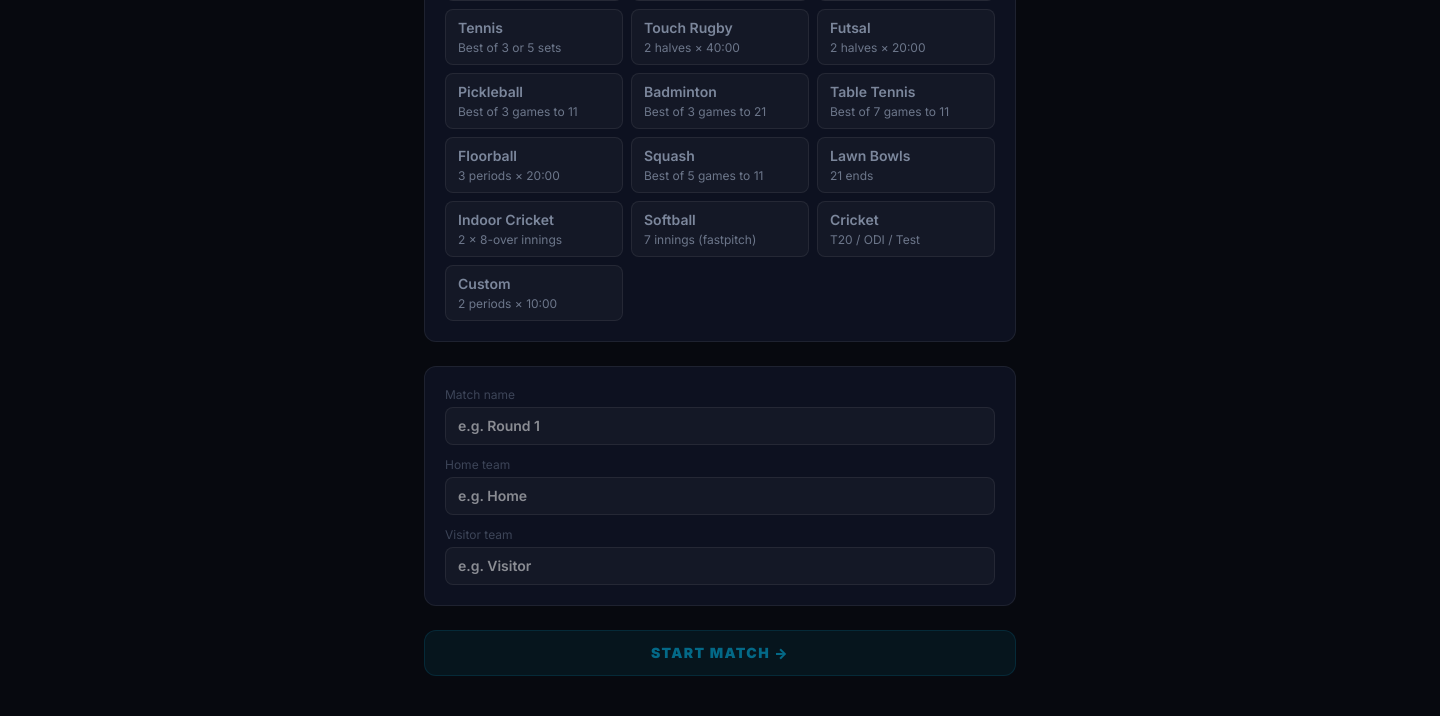
SetupPage › shows a network-error message when the request throws
(page scrolled)
In the field with test id "setup-match-name": x=720, y=426 [445,407,995,445], type "Round 1"
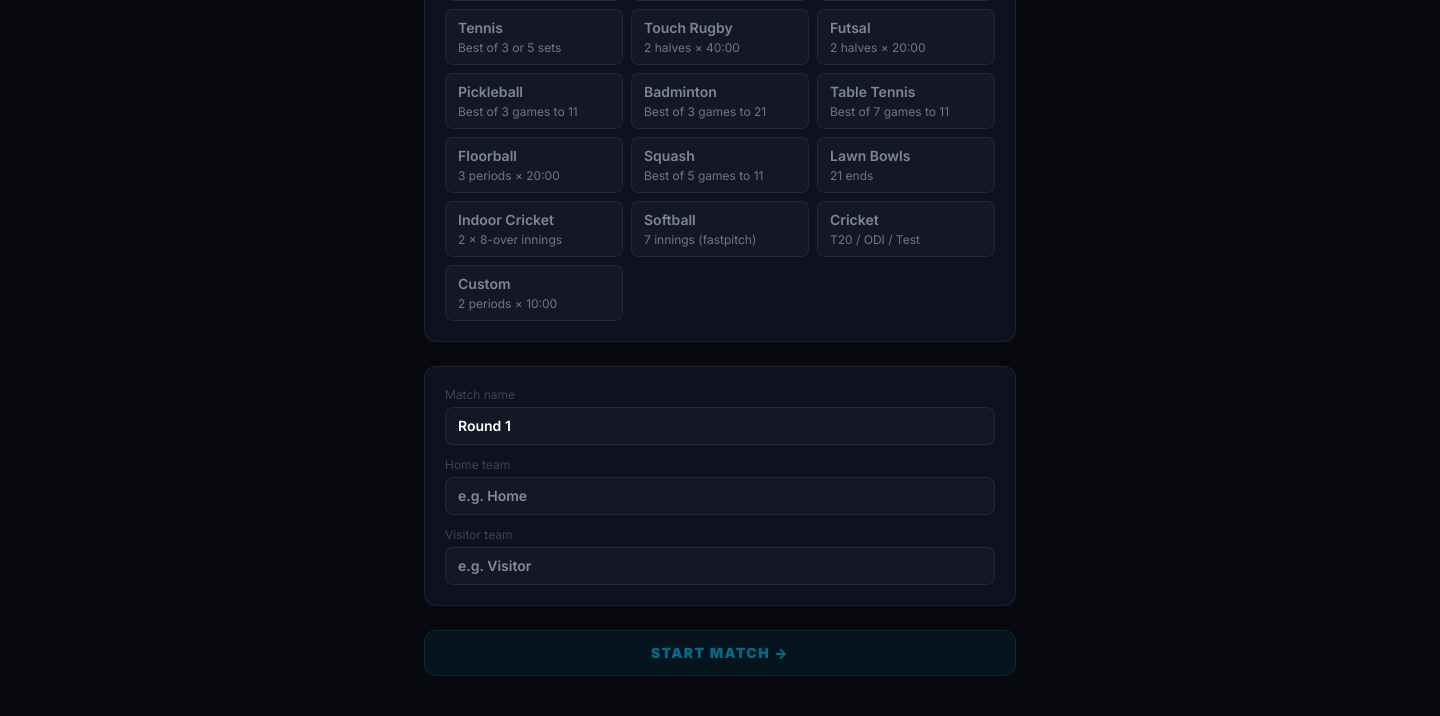
In the field with test id "setup-home-name": x=720, y=496 [445,477,995,515], type "Sharks"
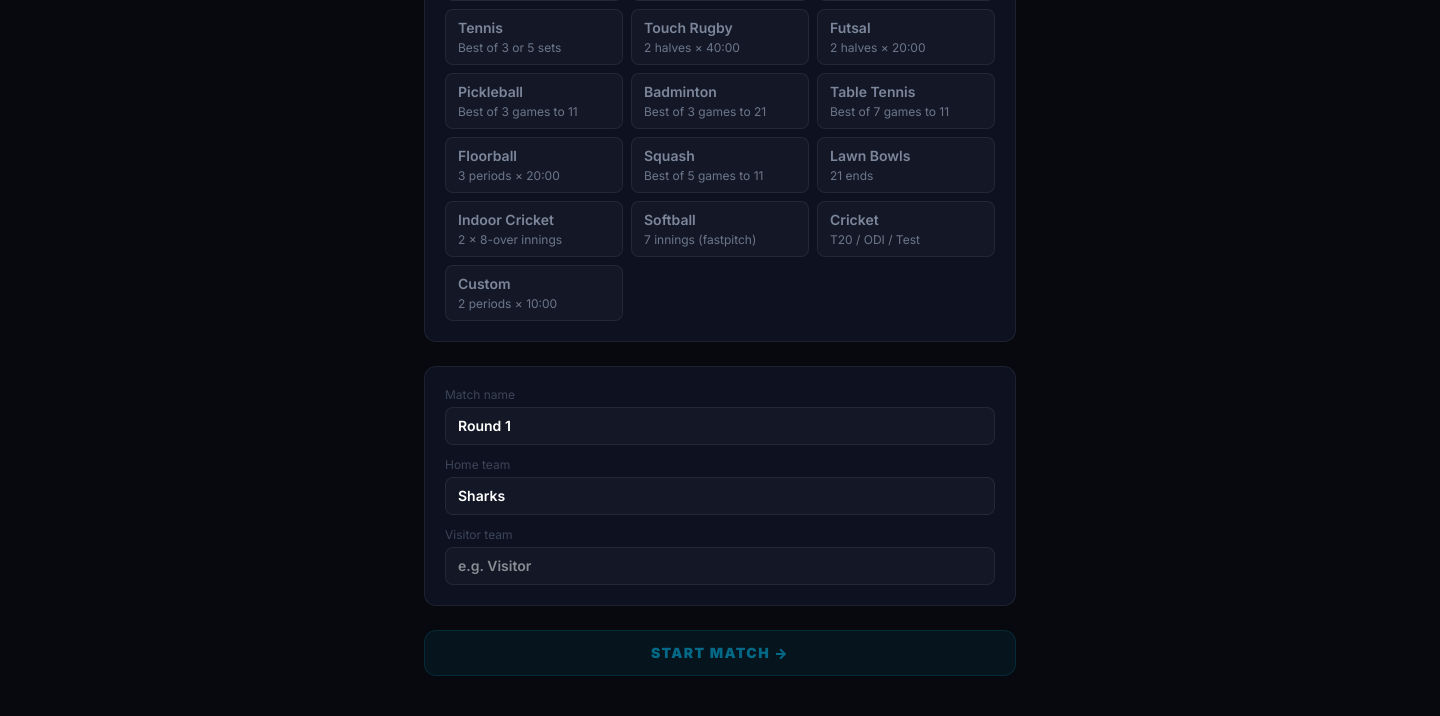
In the field with test id "setup-visitor-name": x=720, y=566 [445,547,995,585], type "Magic"
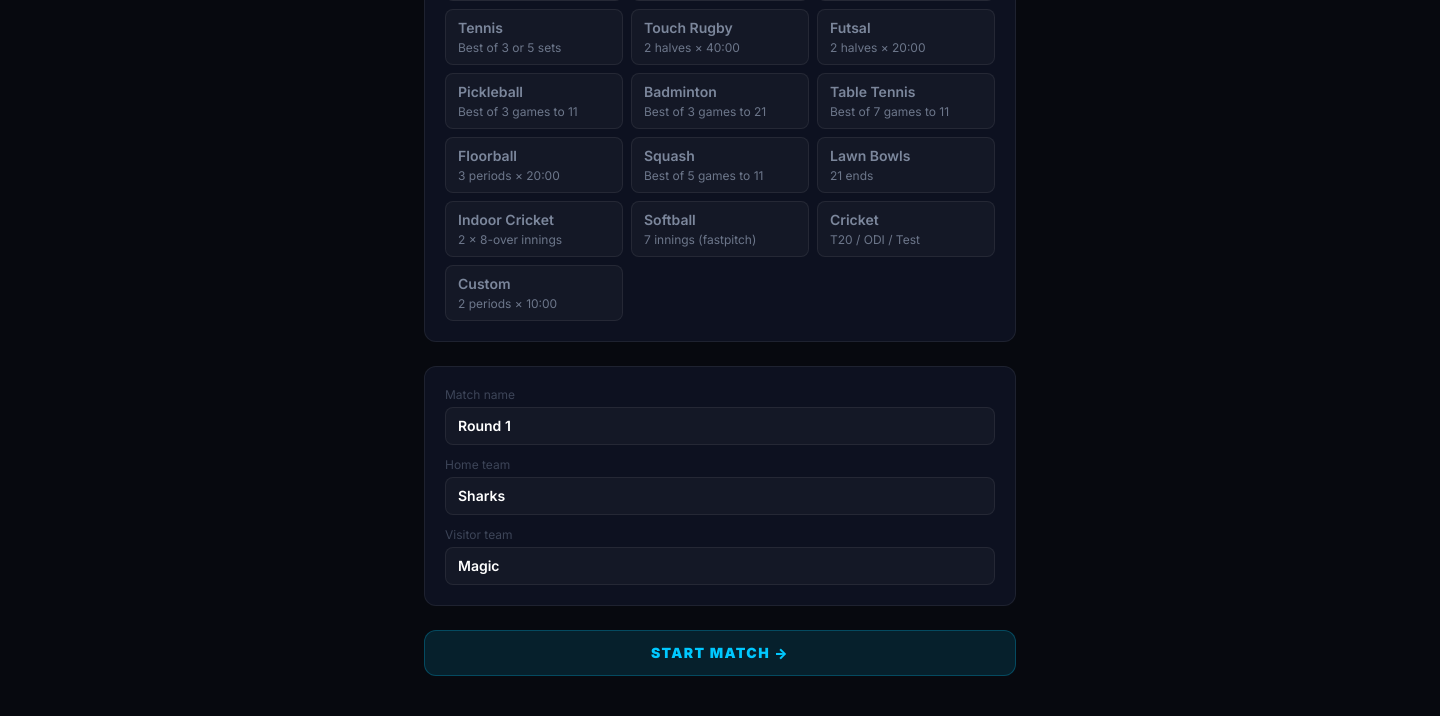
Click the button with test id "setup-submit": x=720, y=653 [424,630,1016,676]
(page scrolled)
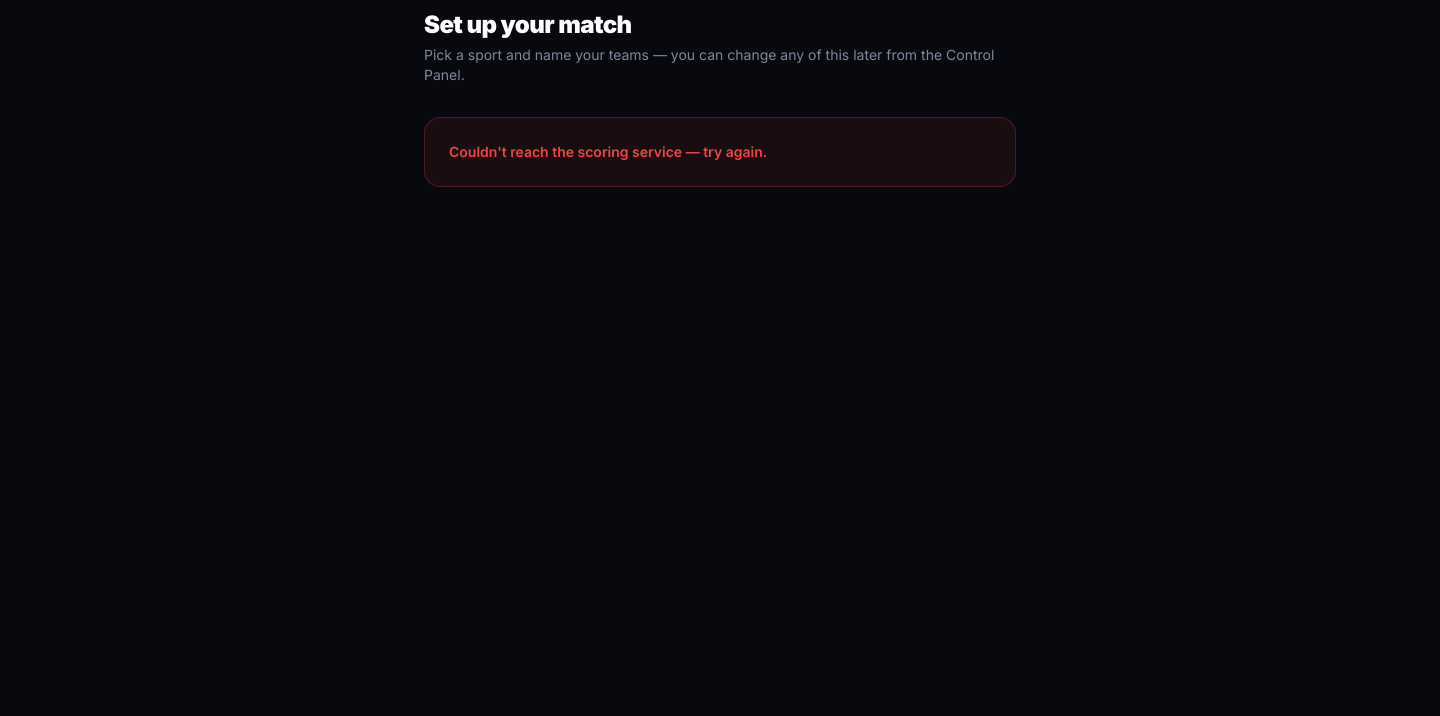
Check: the text "Couldn't reach the scoring service — try again." is shown, box [424,117,1016,187]
